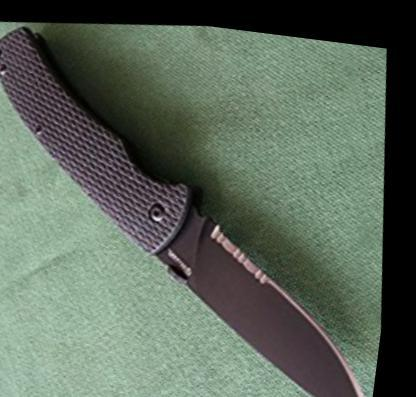knife: (129, 167, 401, 395)
